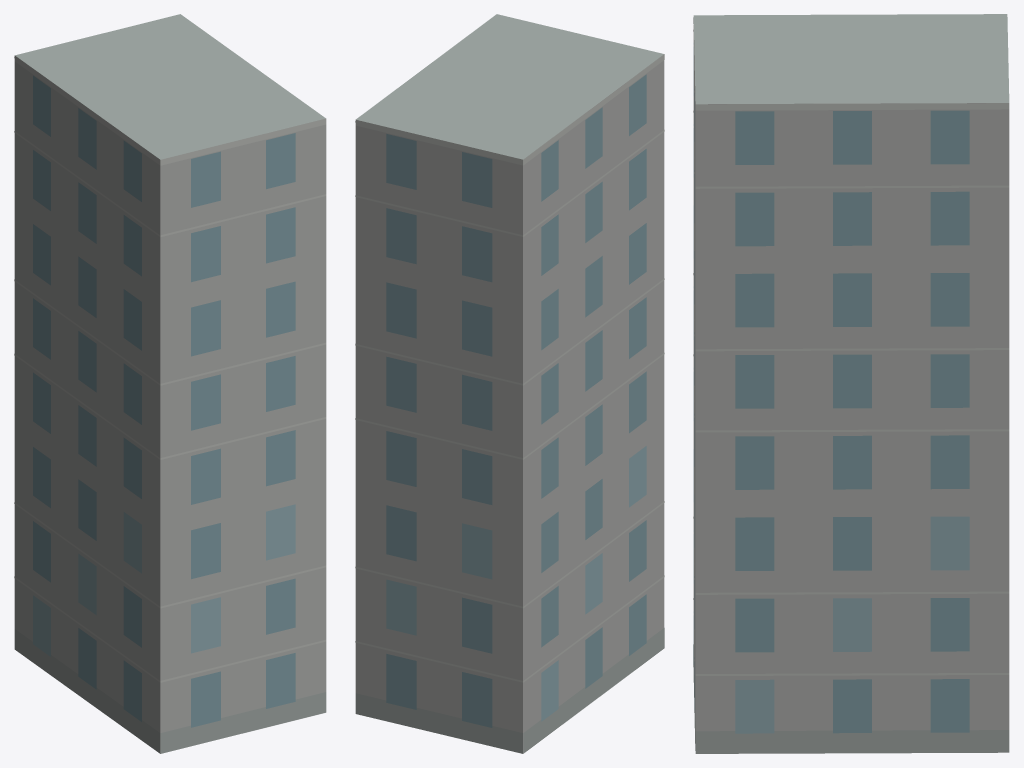
The model's file is survey-upis-32717393.glb.
3 views of the same model, side by side, from view 1: azimuth 30°, elevation 25°; view 2: azimuth 150°, elevation 25°; view 3: azimuth 270°, elevation 25° (orthographic). The views are drawn at different scales.
Visible parts, largest first — view 1: survey-upis-32717393.tmp; view 2: survey-upis-32717393.tmp; view 3: survey-upis-32717393.tmp.
Boxes of the visible parts, bbox=[...] form: survey-upis-32717393.tmp: bbox=[14, 14, 326, 753]; survey-upis-32717393.tmp: bbox=[355, 14, 664, 753]; survey-upis-32717393.tmp: bbox=[693, 14, 1009, 753].
Bounding box in the file's own units: 7.29 × 24.4 × 10.77.
